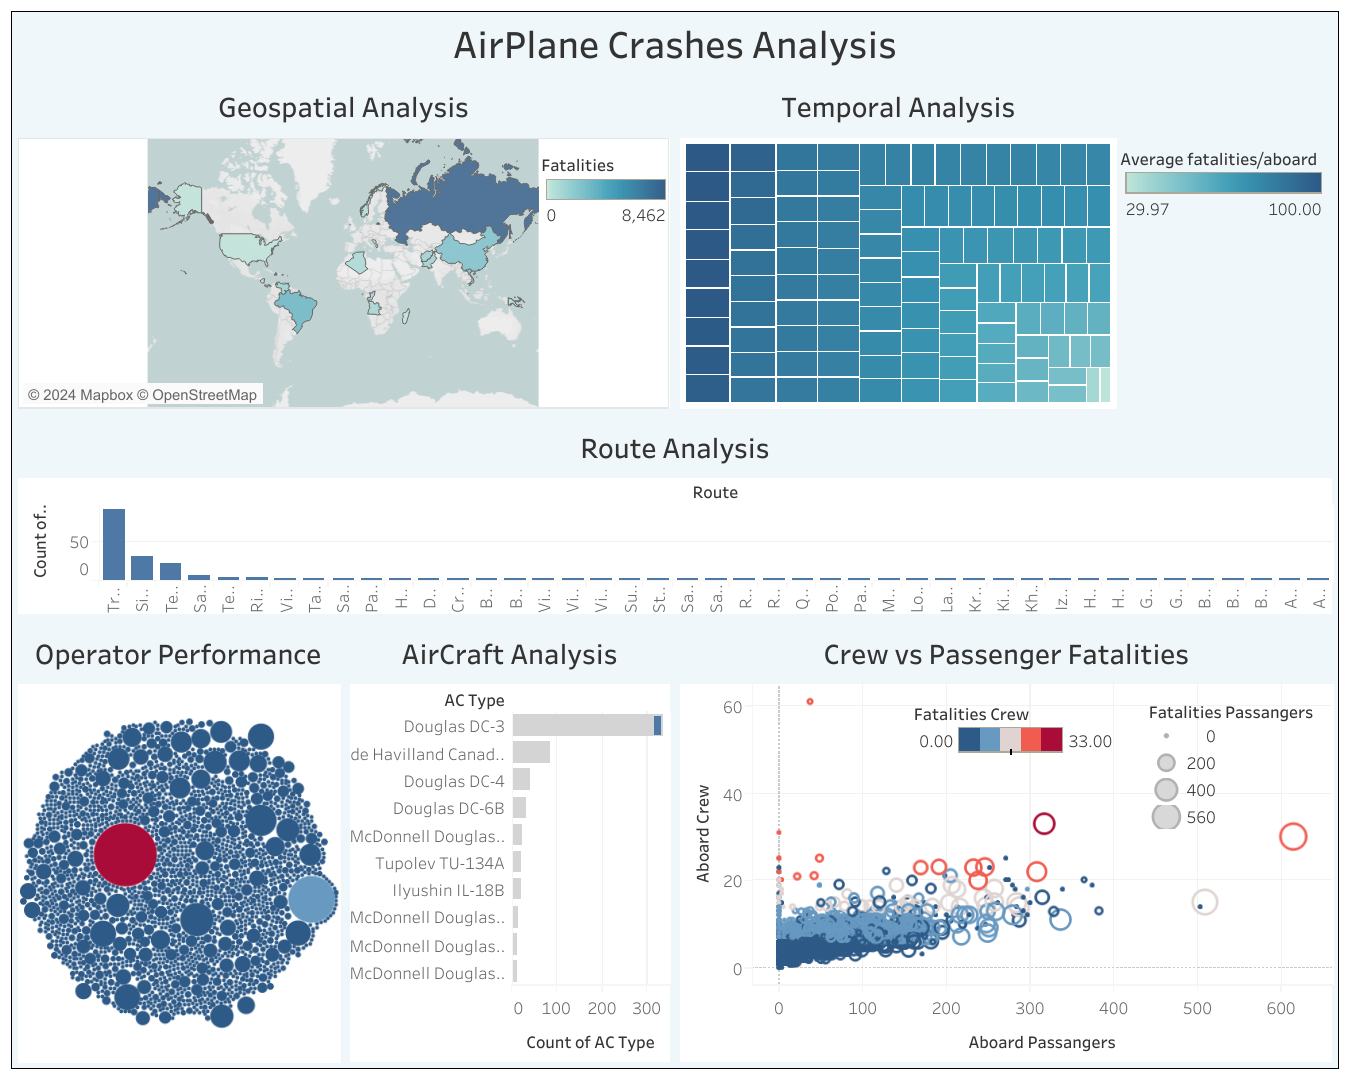

Layout of this report page (visuals, bound fields, positions):
{"tool":"tableau","page":{"name":"AirPlane Crashes Analysis - Dashboard","canvas":[1000,800],"ordinal":0},"visuals":[{"type":"title","box":[9,9,982,46]},{"type":"worksheet","title":"Geospatial Analysis","mark":"Automatic","box":[9,55,491,252.2]},{"type":"worksheet","title":"Temporal Analysis","mark":"Automatic","box":[500,55,491,252.2]},{"type":"legend","title":"Temporal Analysis","param":"[federated.1dgn3sm08r7aoc1ewan250foyfho].[usr:Calculation_1550927131327602911:qk","box":[830,104,154,56]},{"type":"legend","title":"Geospatial Analysis","param":"[federated.1dgn3sm08r7aoc1ewan250foyfho].[sum:Fatalities:qk]","box":[401,109,97,58]},{"type":"worksheet","title":"Route Analysis","mark":"Automatic","rows":["Route"],"cols":["Route"],"box":[9,307.2,982,152.5]},{"type":"worksheet","title":"Operator Performance","mark":"Circle","box":[9,459.7,245.5,331.3]},{"type":"worksheet","title":"AirCraft Analysis","mark":"Automatic","rows":["AC Type"],"cols":["AC Type"],"box":[254.5,459.7,245.5,331.3]},{"type":"worksheet","title":"Fatalities Analysis","mark":"Automatic","rows":["Aboard Crew"],"cols":["Aboard Passangers"],"box":[500,459.7,491,331.3]},{"type":"legend","title":"Fatalities Analysis","param":"[federated.1dgn3sm08r7aoc1ewan250foyfho].[sum:Fatalities Crew:qk]","box":[677,515,152,58]},{"type":"legend","title":"Fatalities Analysis","param":"[federated.1dgn3sm08r7aoc1ewan250foyfho].[sum:Fatalities Passangers:qk]","box":[850,516,137,99]}]}

Visuals, with their boxes in screenshot pixels (x1, y1, x2, y2), scaled from the page's 1000x800 canvas onto the 1349x1079 screenshot:
title: bbox=(12, 12, 1337, 74)
"Geospatial Analysis" worksheet: bbox=(12, 74, 674, 414)
"Temporal Analysis" worksheet: bbox=(674, 74, 1337, 414)
"Temporal Analysis" legend: bbox=(1120, 140, 1327, 216)
"Geospatial Analysis" legend: bbox=(541, 147, 672, 225)
"Route Analysis" worksheet: bbox=(12, 414, 1337, 620)
"Operator Performance" worksheet (Circle marks): bbox=(12, 620, 343, 1067)
"AirCraft Analysis" worksheet: bbox=(343, 620, 674, 1067)
"Fatalities Analysis" worksheet: bbox=(674, 620, 1337, 1067)
"Fatalities Analysis" legend: bbox=(913, 695, 1118, 773)
"Fatalities Analysis" legend: bbox=(1147, 696, 1331, 829)
